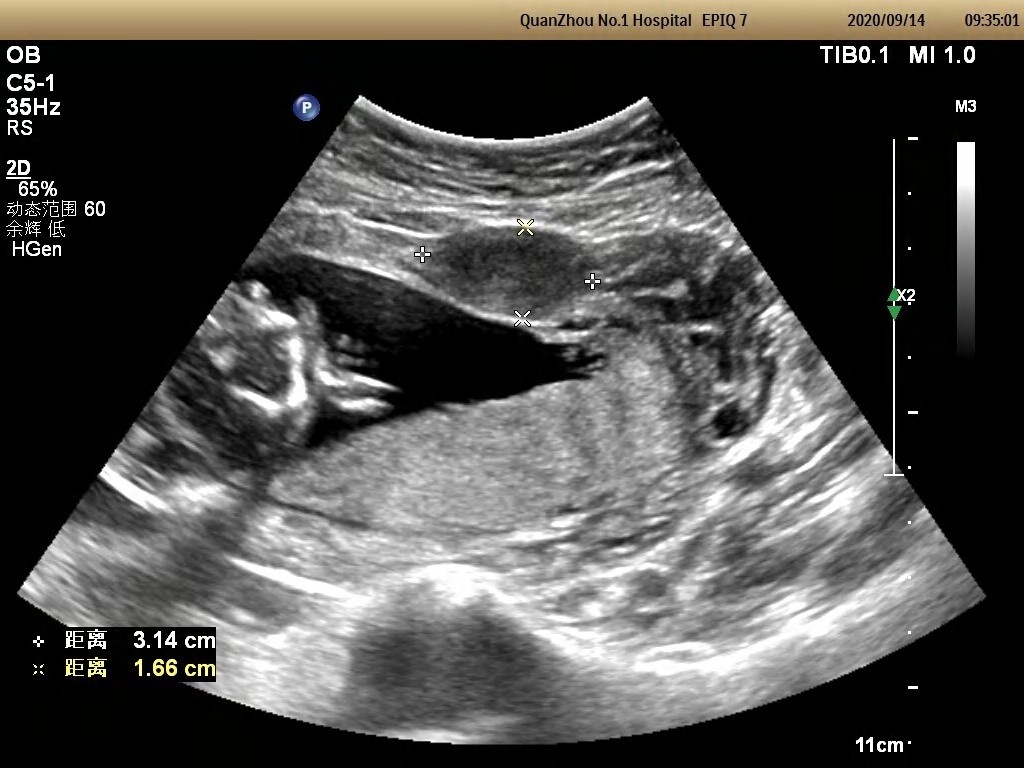肌瘤: (433, 228, 596, 306)
